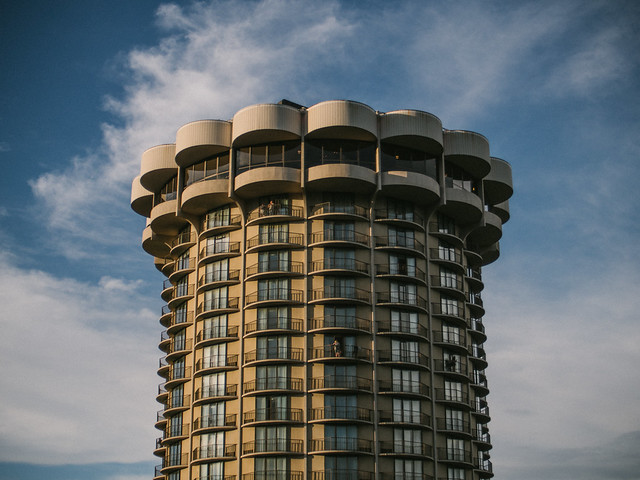medium: (125, 95, 518, 480)
